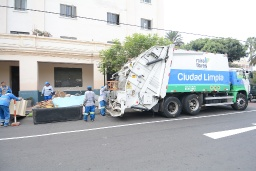person: (83, 83, 97, 125), (39, 81, 55, 101)
truck: (103, 45, 252, 122)
